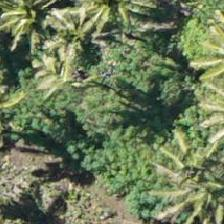coconut_tree: (159, 29, 223, 119), (0, 0, 65, 66)
